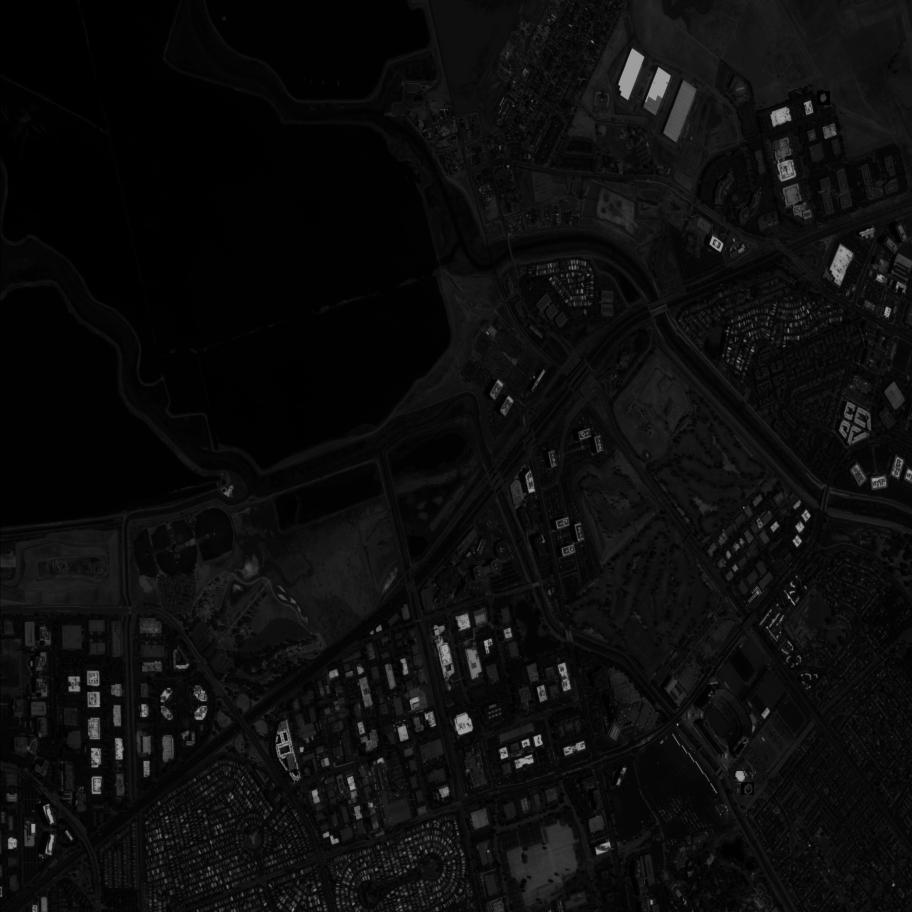storage-tank: (741, 781, 755, 796), (817, 91, 831, 105), (735, 771, 746, 783)
